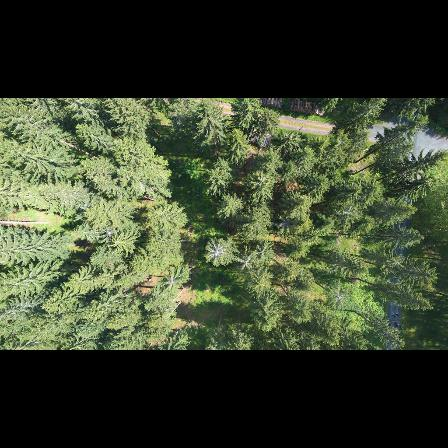Sick: (322, 283, 353, 310), (206, 237, 231, 267), (336, 198, 361, 225), (98, 221, 120, 246), (234, 254, 258, 276), (385, 249, 407, 273), (163, 271, 184, 296)
